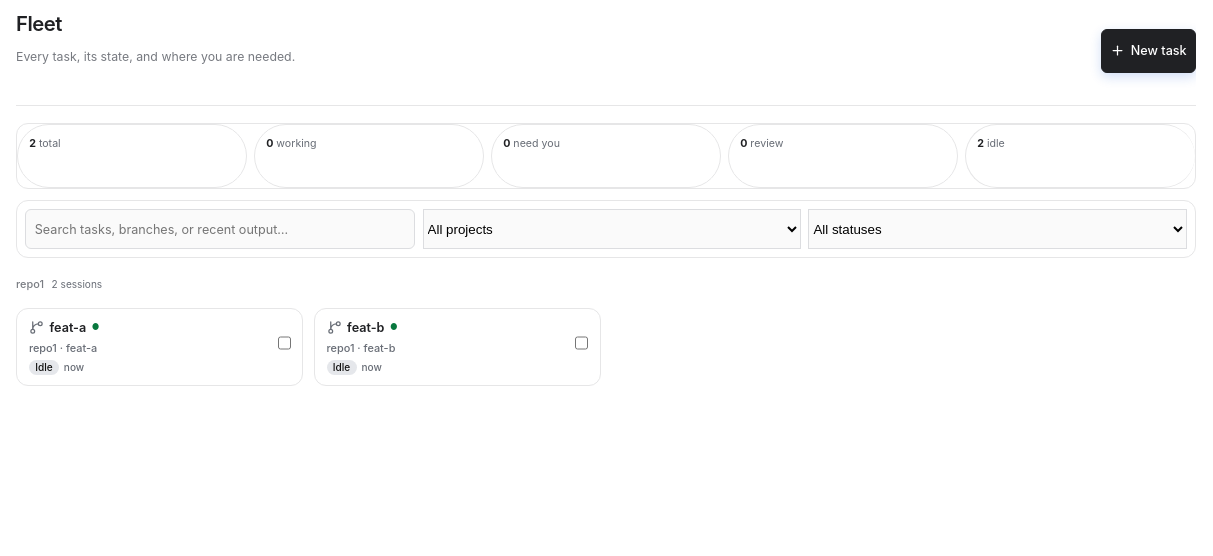
it: FleetGrid › continues a bulk archive after one failure and selects the retry
Click the checkbox named "select feat-a". click: (284, 343)
box: [278,321,291,365]
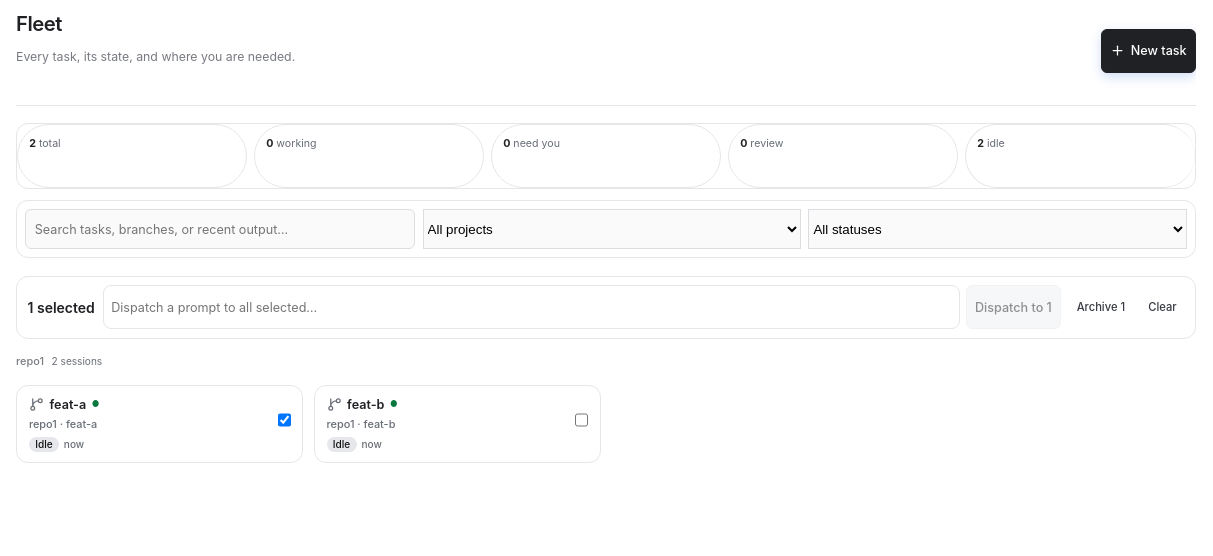
Click the checkbox named "select feat-b". click: (582, 420)
box: [575,398,588,442]
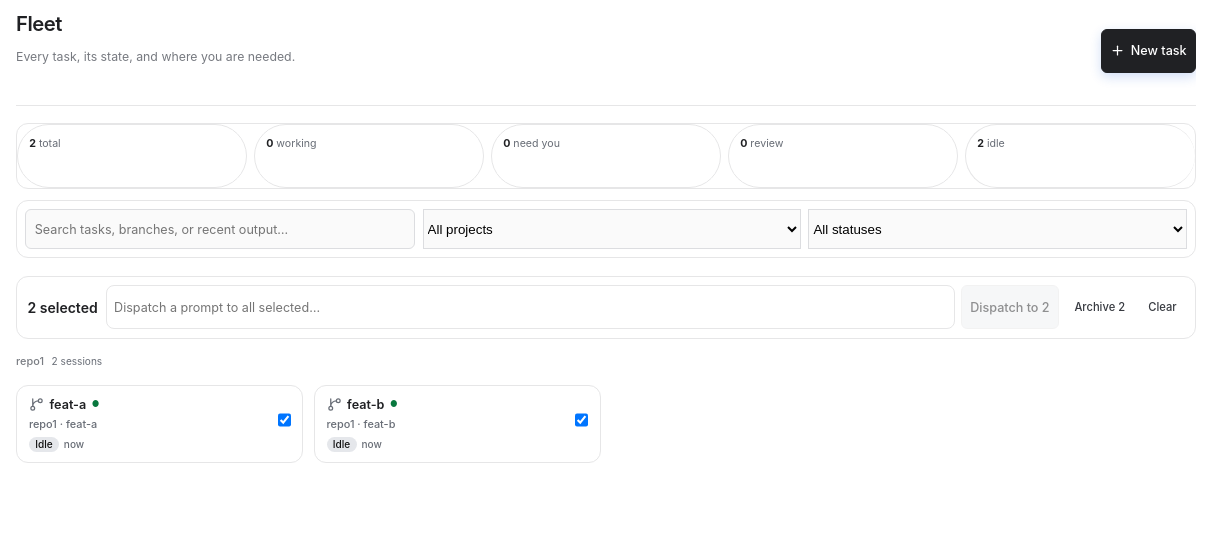
Click the button "Archive 2". click: (1100, 307)
box: [1067,289,1132,325]
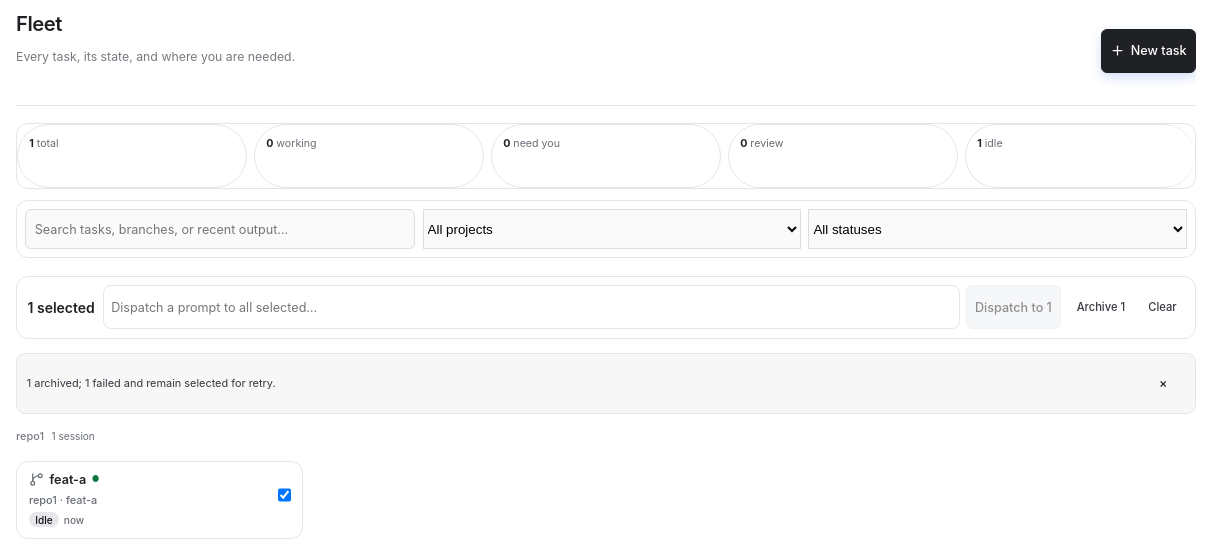
Expected: the checkbox named "select feat-a" is checked, [278,473,291,517]
Expected: the message reads "1 archived; 1 failed and remain selected for retry. ×", [27,376,276,390]
